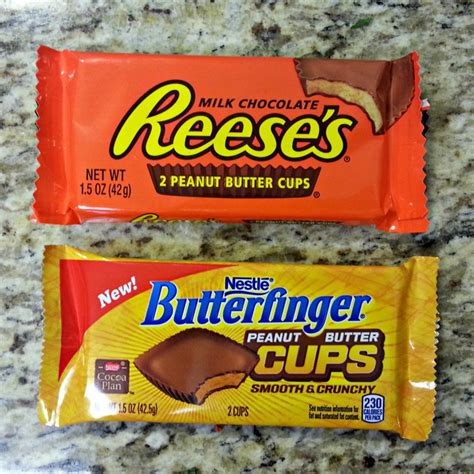reese: (33, 46, 425, 233)
